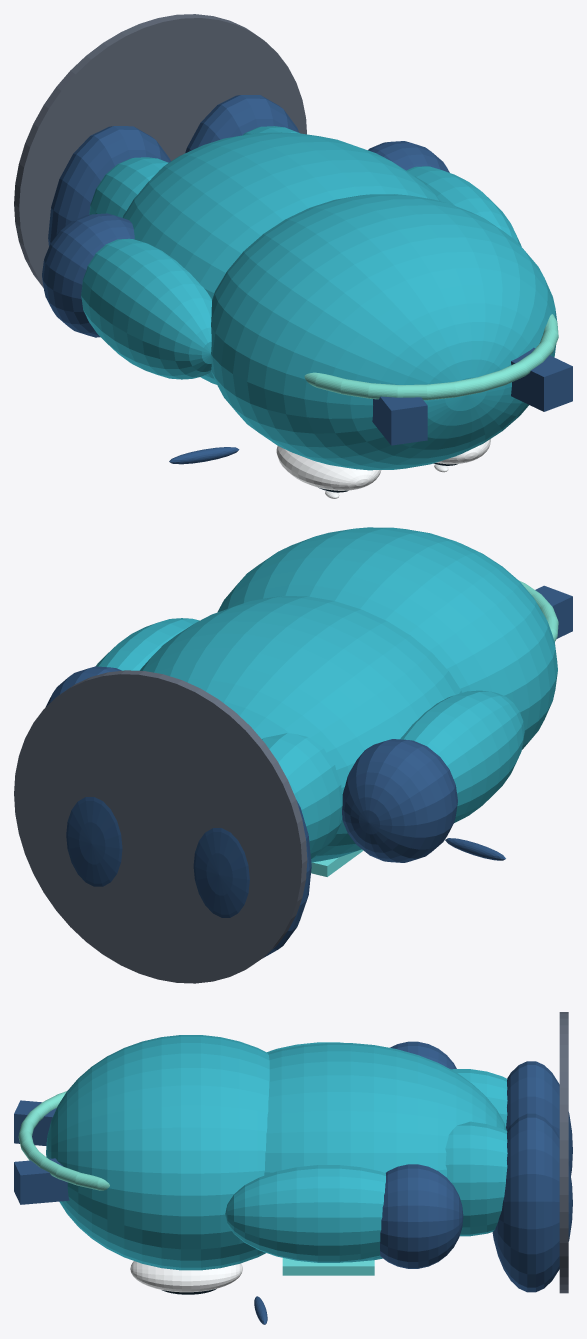
The model's file is luma_reaction_comfortable.glb.
3 views of the same model, one above another, from view 1: azimuth 30°, elevation 25°; view 2: azimuth 150°, elevation 25°; view 3: azimuth 270°, elevation 25° (orthographic). The views are drawn at different scales.
Parts seen in each view (by area): view 1: CHR_Head, CHR_DisplayBase, CHR_Torso, CHR_LeftArm, CHR_LeftHand, CHR_LeftFoot, CHR_StatusRing, CHR_RightFoot, CHR_LeftLeg, CHR_RightArm, CHR_RightAntenna, CHR_LeftAntenna (+3 smaller); view 2: CHR_DisplayBase, CHR_Torso, CHR_Head, CHR_LeftHand, CHR_LeftArm, CHR_LeftLeg, CHR_LeftFoot, CHR_RightFoot, CHR_RightArm, CHR_LeftAntenna, CHR_RightHand, CHR_LeftBrow (+2 smaller); view 3: CHR_Head, CHR_Torso, CHR_RightArm, CHR_RightFoot, CHR_RightHand, CHR_RightLeg, CHR_LeftFoot, CHR_DisplayBase, CHR_RightEyeWhite, CHR_StatusRing, CHR_RightAntenna, CHR_ChestSensor (+3 smaller).
Part boxes in pixels (x1=…): CHR_Head: x1=211, y1=194, x2=557, y2=470; CHR_DisplayBase: x1=14, y1=14, x2=306, y2=287; CHR_Torso: x1=122, y1=132, x2=440, y2=384; CHR_LeftArm: x1=81, y1=238, x2=211, y2=379; CHR_LeftHand: x1=42, y1=213, x2=134, y2=337; CHR_LeftFoot: x1=48, y1=126, x2=170, y2=246; CHR_StatusRing: x1=304, y1=314, x2=558, y2=400; CHR_RightFoot: x1=185, y1=95, x2=299, y2=152; CHR_LeftLeg: x1=89, y1=157, x2=168, y2=217; CHR_RightArm: x1=406, y1=166, x2=521, y2=246; CHR_RightAntenna: x1=511, y1=347, x2=572, y2=411; CHR_LeftAntenna: x1=372, y1=396, x2=427, y2=445; CHR_DisplayBase: x1=14, y1=670, x2=307, y2=983; CHR_Torso: x1=140, y1=595, x2=461, y2=862; CHR_Head: x1=217, y1=527, x2=557, y2=749; CHR_LeftHand: x1=342, y1=739, x2=457, y2=862; CHR_LeftArm: x1=400, y1=690, x2=524, y2=822; CHR_LeftLeg: x1=262, y1=733, x2=342, y2=859; CHR_LeftFoot: x1=193, y1=800, x2=311, y2=958; CHR_RightFoot: x1=66, y1=797, x2=122, y2=886; CHR_RightArm: x1=96, y1=618, x2=199, y2=670; CHR_LeftAntenna: x1=535, y1=585, x2=572, y2=638; CHR_RightHand: x1=45, y1=666, x2=121, y2=707; CHR_LeftBrow: x1=445, y1=838, x2=505, y2=860; CHR_Head: x1=46, y1=1035, x2=269, y2=1270; CHR_Torso: x1=264, y1=1043, x2=506, y2=1262; CHR_RightArm: x1=225, y1=1165, x2=385, y2=1262; CHR_RightFoot: x1=492, y1=1113, x2=572, y2=1292; CHR_RightHand: x1=380, y1=1164, x2=463, y2=1268; CHR_RightLeg: x1=445, y1=1121, x2=507, y2=1236; CHR_LeftFoot: x1=506, y1=1061, x2=572, y2=1175; CHR_DisplayBase: x1=559, y1=1012, x2=568, y2=1293; CHR_RightEyeWhite: x1=130, y1=1261, x2=242, y2=1292; CHR_StatusRing: x1=18, y1=1091, x2=109, y2=1190; CHR_RightAntenna: x1=14, y1=1158, x2=69, y2=1204; CHR_ChestSensor: x1=282, y1=1258, x2=374, y2=1275.
Size of the model in its own units: 2.64 by 1.9 by 3.78.
